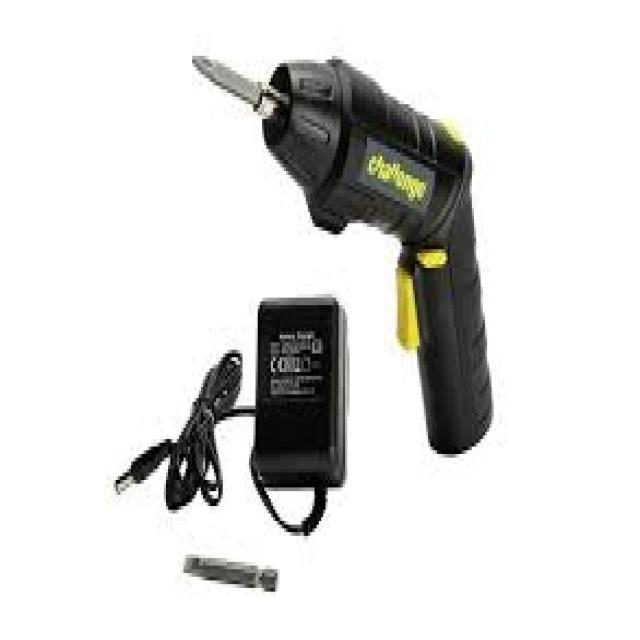driller: (194, 56, 494, 458)
